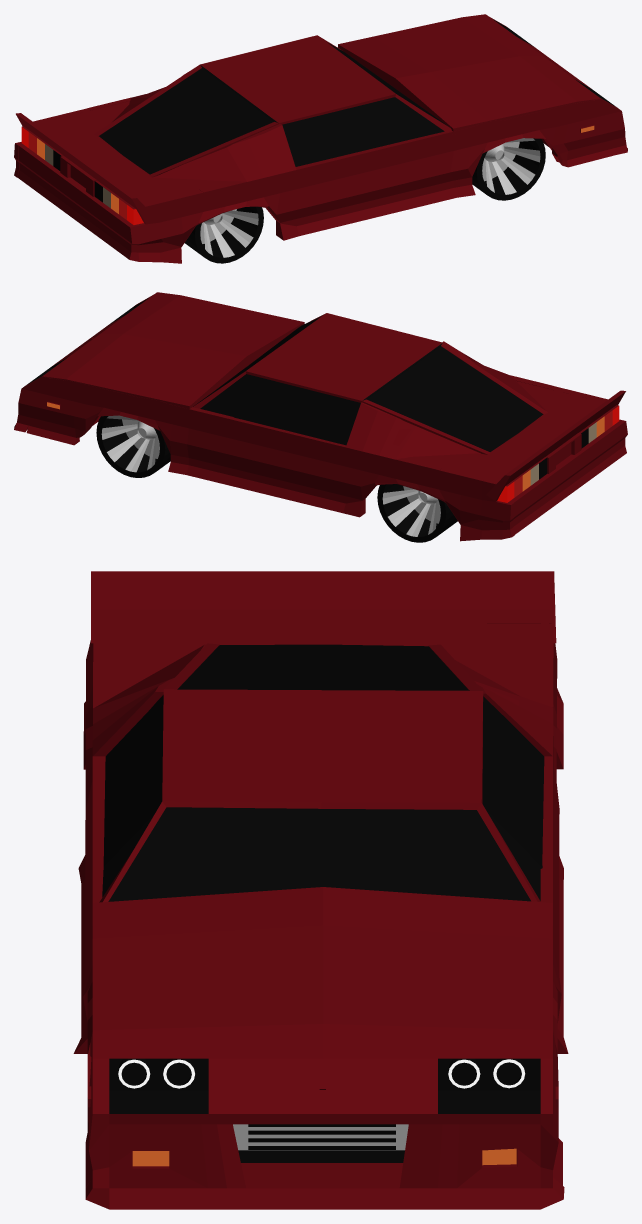
Rendered from CAMARO.glb.
The picture shows the model from 3 angles, top to bottom: view 1: azimuth 30°, elevation 25°; view 2: azimuth 150°, elevation 25°; view 3: azimuth 270°, elevation 25°; orthographic projection. The views are drawn at different scales.
Visible parts, largest first — view 1: Cube, Cylinder; view 2: Cube, Cylinder; view 3: Cube.
Part boxes in pixels (x1,y1,x2,y2): Cube: (14, 14, 627, 263); Cylinder: (185, 138, 545, 263); Cube: (14, 292, 627, 541); Cylinder: (96, 415, 457, 542); Cube: (73, 571, 568, 1209).
Size of the model in its own units: 17.62 by 3.99 by 7.54.
